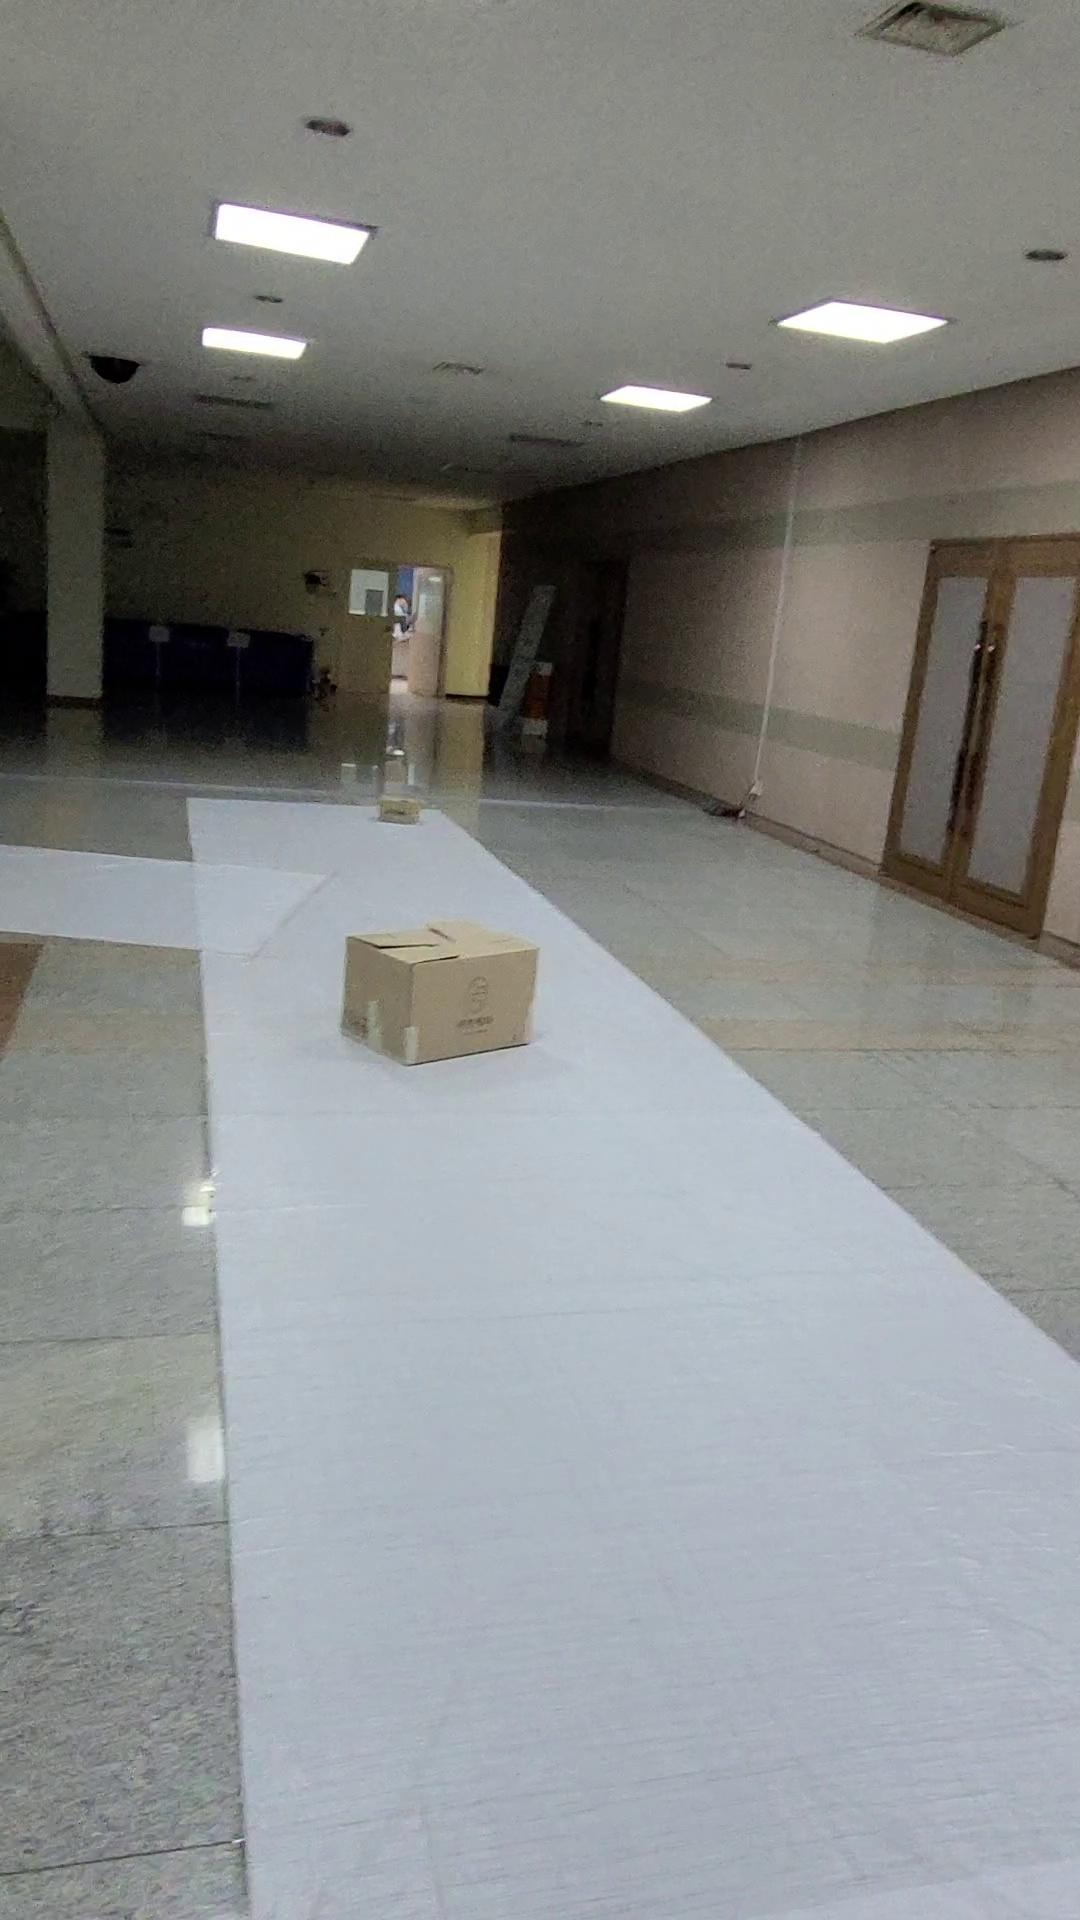Box: (331, 910, 644, 1120), (367, 765, 454, 857)
